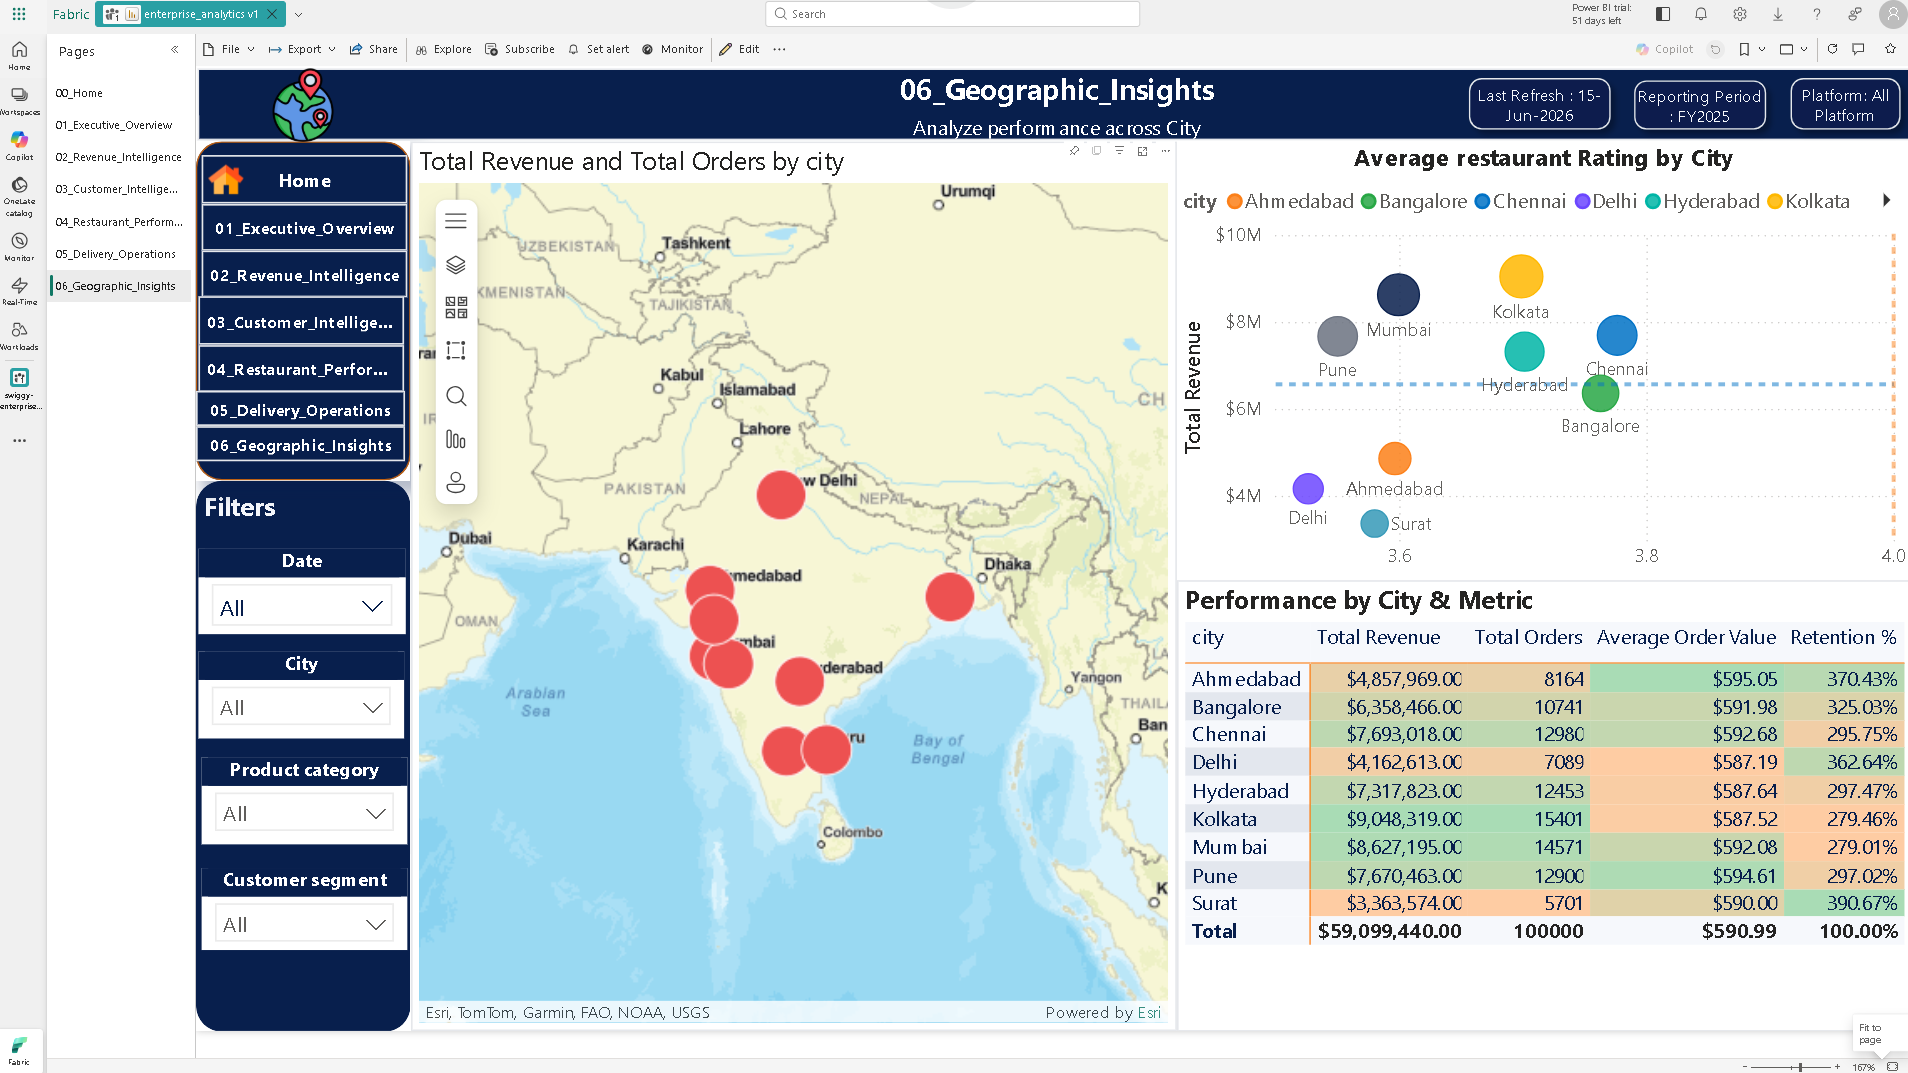

Layout of this report page (visuals, bound fields, positions):
{"tool":"powerbi","page":{"name":"06_Geographic_Insights","canvas":[1280,720],"ordinal":6},"visuals":[{"type":"shape","title":"06_Geographic_Insights","box":[1.3,2,1278.7,54.1],"z":1000},{"type":"shape","box":[939.7,0,123.6,56.3],"z":2000},{"type":"shape","box":[1063.3,1.8,116.3,54.5],"z":3000},{"type":"shape","box":[1179.6,0,100,56.3],"z":4000},{"type":"shape","title":"Filters","box":[0,309,159.9,410.8],"z":5000},{"type":"scatterChart","title":"Average restaurant Rating by  City","fields":{"X":["dim_restaurants.Average Restaurant Rating"],"Y":["Measure_Table.Total Revenue"],"Size":["Measure_Table.Total Orders"],"Series":["dim_restaurants.city"]},"box":[730.6,56.3,548.9,327.2],"z":6000},{"type":"pivotTable","title":"Performance by City & Metric","fields":{"Rows":["dim_restaurants.city"],"Values":["Measure_Table.Total Revenue","Measure_Table.Total Orders","Measure_Table.Average Order Value","fact_orders.Retention %"]},"box":[731,383,549,336],"z":7000},{"type":"image","box":[0,1.8,159.9,54.5],"z":8000},{"type":"shape","box":[0,56.3,159.9,252.6],"z":9000},{"type":"actionButton","title":"Home","box":[4,66.6,153.5,36.4],"z":10000},{"type":"actionButton","title":"01_Executive_Overview","box":[4,103,153.5,34.3],"z":11000},{"type":"actionButton","title":"02_Revenue_Intelligence","box":[4,137.3,153.5,34.3],"z":12000},{"type":"actionButton","title":"03_Customer_Intelligence","box":[2,171.7,153.5,36.4],"z":13000},{"type":"actionButton","title":"04_Restaurant_Performance","box":[2,208,153.5,34.3],"z":14000},{"type":"actionButton","title":"05_Delivery_Operations","box":[0,242.4,155.5,26.3],"z":15000},{"type":"actionButton","title":"05_Delivery_Operations","box":[0,268.6,155.5,26.3],"z":16000},{"type":"slicer","title":"Date","fields":{"Values":["dim_date.month_year","dim_date.weekday_name"]},"box":[1.8,359.9,154.5,63.6],"z":17000},{"type":"slicer","title":"City","fields":{"Values":["dim_restaurants.city"]},"box":[2,436.3,153.5,64.6],"z":18000},{"type":"slicer","title":"Product category","fields":{"Values":["fact_orders.product_category"]},"box":[4,515.1,153.5,64.6],"z":19000},{"type":"slicer","title":"Customer segment","fields":{"Values":["dim_customers.customer_segment"]},"box":[4,597.9,153.5,60.6],"z":20000},{"type":"esriVisual","fields":{"Location":["dim_location.city"],"Size":["Measure_Table.Total Revenue"],"Color":["Measure_Table.Total Orders"]},"box":[159.9,56.3,570.7,663.4],"z":20001}]}

Visuals, with their boxes on the page's 1280x720 design canvas (x1, y1, x2, y2). These are canvas units, not pixel positions in the 1908x1073 screenshot, which may show the page scaled, cropped or inside an application window:
"06_Geographic_Insights" shape: bbox(1, 2, 1280, 56)
shape: bbox(940, 0, 1063, 56)
shape: bbox(1063, 2, 1180, 56)
shape: bbox(1180, 0, 1280, 56)
"Filters" shape: bbox(0, 309, 160, 720)
"Average restaurant Rating by  City" scatterChart: bbox(731, 56, 1280, 384)
"Performance by City & Metric" pivotTable: bbox(731, 383, 1280, 719)
image: bbox(0, 2, 160, 56)
shape: bbox(0, 56, 160, 309)
"Home" actionButton: bbox(4, 67, 158, 103)
"01_Executive_Overview" actionButton: bbox(4, 103, 158, 137)
"02_Revenue_Intelligence" actionButton: bbox(4, 137, 158, 172)
"03_Customer_Intelligence" actionButton: bbox(2, 172, 156, 208)
"04_Restaurant_Performance" actionButton: bbox(2, 208, 156, 242)
"05_Delivery_Operations" actionButton: bbox(0, 242, 156, 269)
"05_Delivery_Operations" actionButton: bbox(0, 269, 156, 295)
"Date" slicer: bbox(2, 360, 156, 424)
"City" slicer: bbox(2, 436, 156, 501)
"Product category" slicer: bbox(4, 515, 158, 580)
"Customer segment" slicer: bbox(4, 598, 158, 658)
esriVisual - dim_location.city x Measure_Table.Total Revenue: bbox(160, 56, 731, 720)
